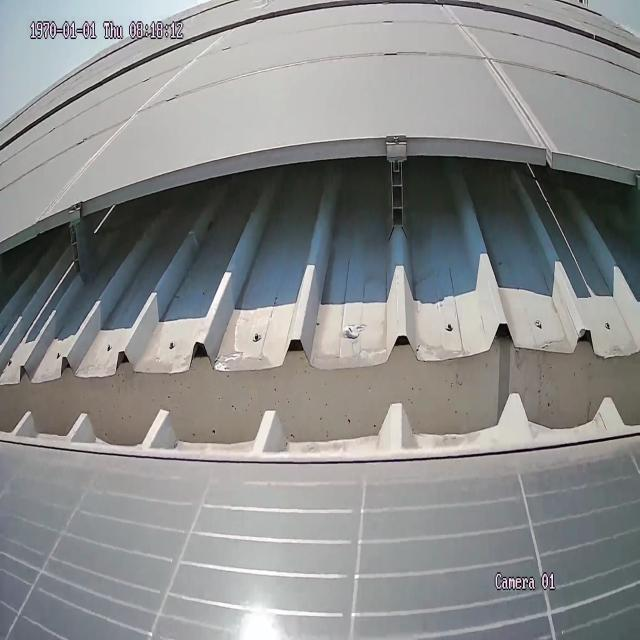interior panel: (39, 29, 227, 213), (443, 7, 558, 143)
outher panel: (4, 137, 639, 462)
